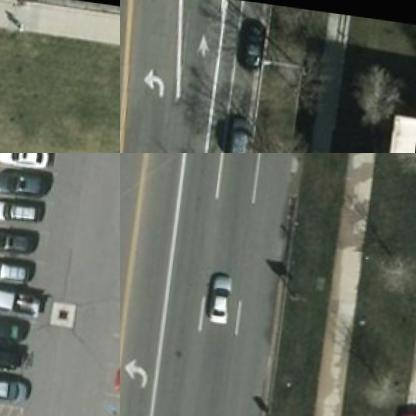car: (235, 10, 269, 62), (0, 161, 52, 195), (0, 275, 45, 313), (0, 190, 48, 224), (209, 265, 238, 318), (0, 219, 45, 253), (225, 102, 251, 152), (0, 248, 37, 282), (0, 365, 34, 401), (0, 304, 32, 340), (0, 331, 29, 368), (0, 153, 52, 164)
